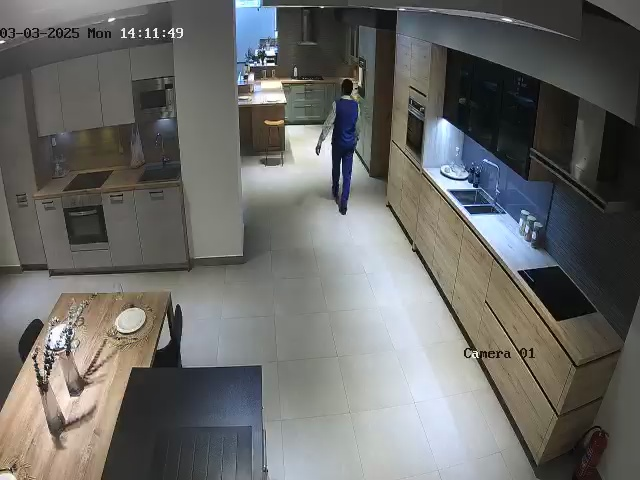employee: (315, 78, 361, 216)
